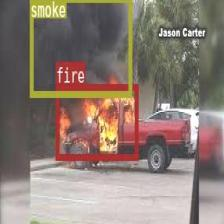fire: (55, 83, 137, 159)
smoke: (29, 0, 131, 96)
